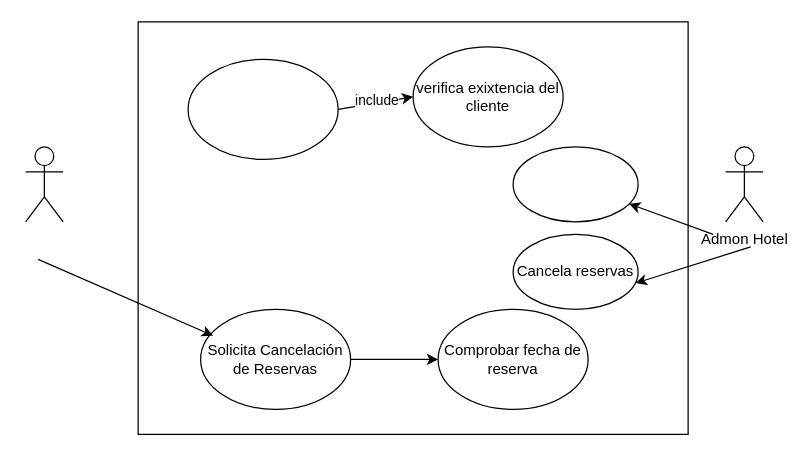
The diagram is 809 pixels wide and 456 high, and some of its shapes have lost their labels. The centre of each missing label's shape, as x and y in pixels:
"Cliente" goes at point 43,184.
"Registra reservas" goes at point 575,184.
"solcito habitacion" goes at point 262,108.
